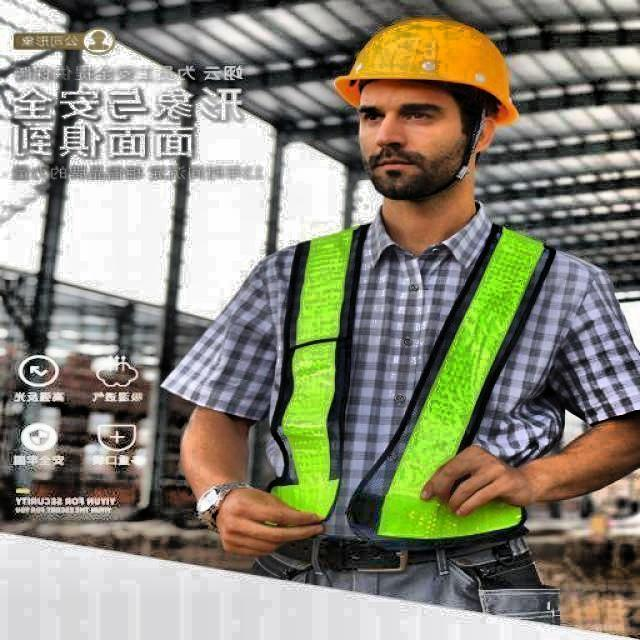safety_jacket: (277, 252, 518, 536)
